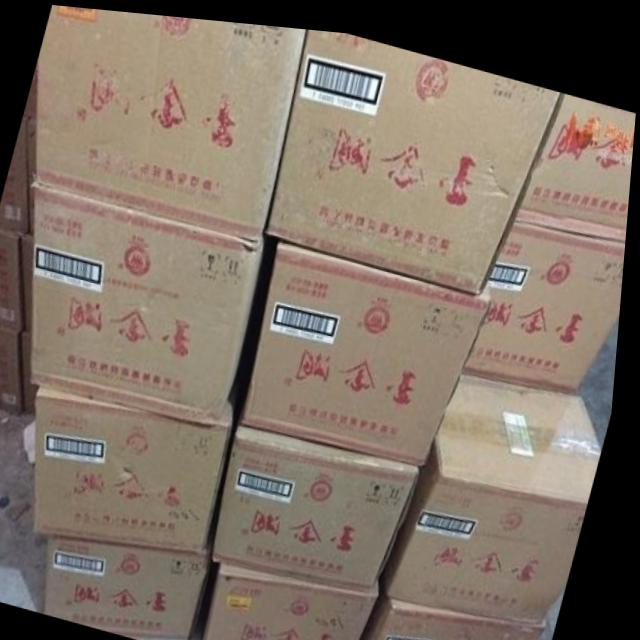box: (269, 23, 562, 285), (38, 4, 306, 235), (246, 232, 495, 457), (36, 182, 268, 420), (391, 363, 604, 609), (218, 416, 430, 582), (41, 382, 241, 547), (468, 208, 628, 383), (515, 81, 637, 230), (55, 533, 221, 632), (212, 557, 390, 640), (366, 565, 557, 640), (0, 118, 30, 233), (0, 226, 29, 332), (0, 327, 30, 415), (22, 330, 47, 413), (25, 234, 35, 332), (25, 62, 39, 118), (30, 118, 38, 186)
